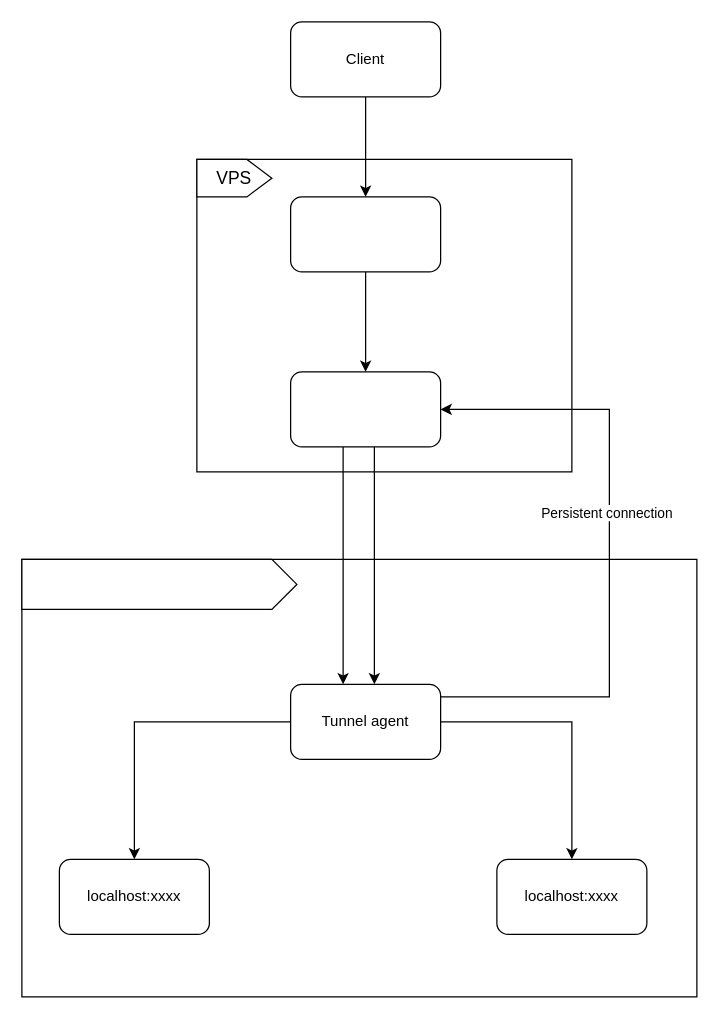
Some shapes in this 719 by 1019 pixel diagram are drawn without their labels. Here are the shapes that lost their labels. From the top down, the centre of each, then its label:
At [365,234]: "Public IP / Open port".
At [365,409]: "Tunnel server".
At [159,583]: "Local machine behind NAT / firewall".
